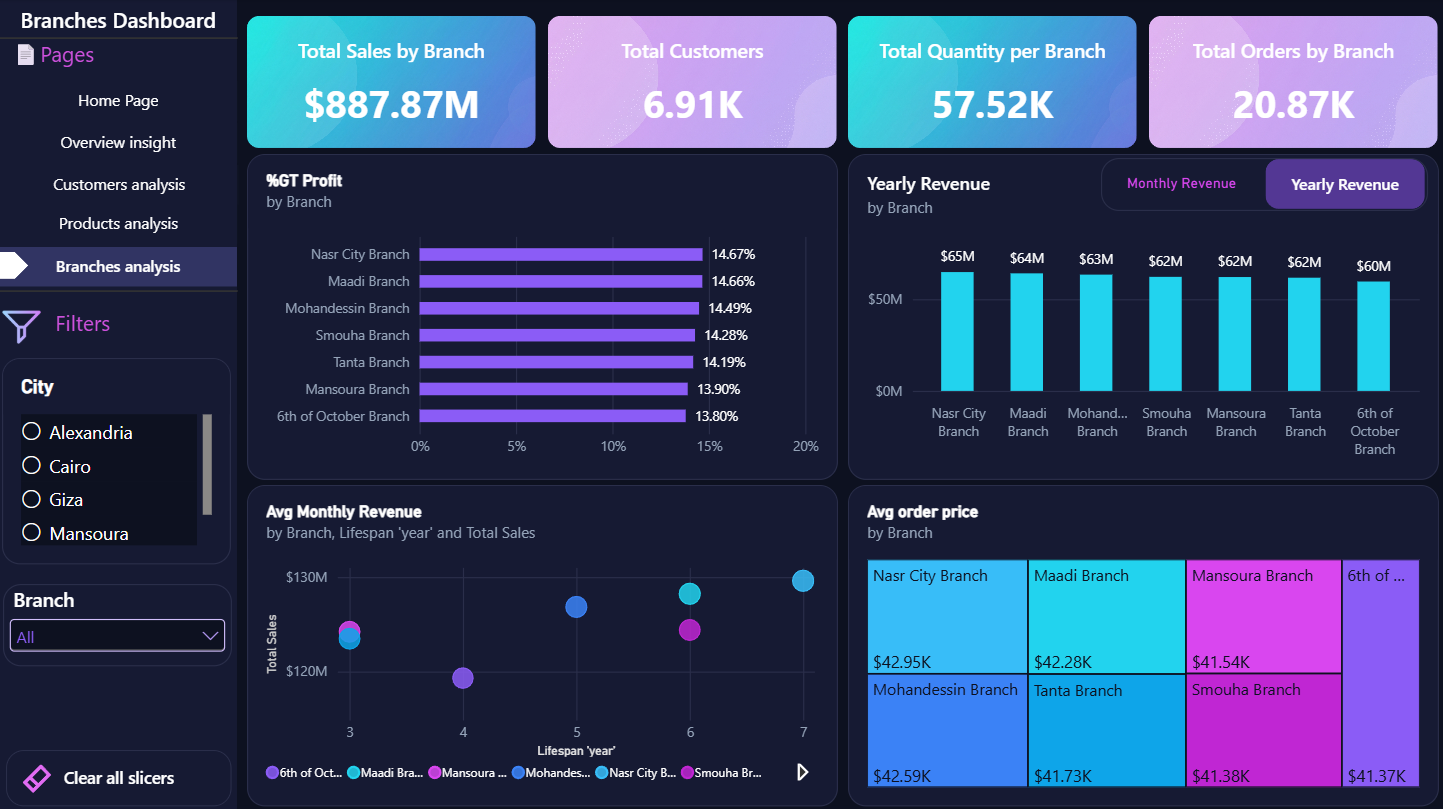

What the dashboard file says about the page in this screenshot:
{"tool":"powerbi","page":{"name":"Branches analysis","canvas":[1280,720],"ordinal":4},"visuals":[{"type":"shape","box":[0,0,211.5,720],"z":0},{"type":"cardVisual","fields":{"Data":["_Measures.Total Customers"]},"box":[486.5,15.1,256.9,117.3],"z":1000},{"type":"cardVisual","fields":{"Data":["_Measures.Total Sales"]},"box":[219.9,15.1,256.9,117.3],"z":2000},{"type":"scatterChart","fields":{"Series":["gold report_branches.branch_name"],"Size":["Sum(gold report_branches.avg_monthly_revenue)"],"X":["gold report_branches.lifespan_year"],"Y":["gold report_branches.total_sales"]},"box":[219.9,431,524,285],"z":3000},{"type":"shape","box":[0,252.9,211.5,12.6],"z":4000},{"type":"textbox","box":[0,5,211.5,36.9],"z":5000,"group":"g2"},{"type":"textbox","box":[0,273.6,148.5,35.1],"z":5000},{"type":"textbox","box":[6.3,35,83,31.5],"z":6000,"group":"g2"},{"type":"image","box":[0,273.6,39.6,34.2],"z":6000},{"type":"listSlicer","fields":{"Values":["gold report_branches.city"]},"box":[3,318.3,203.1,183],"z":7000},{"type":"slicer","fields":{"Values":["gold report_branches.branch_name"]},"box":[3.5,518.7,203,72.9],"z":8000},{"type":"actionButton","box":[6.2,665.9,200,50],"z":9000},{"type":"cardVisual","fields":{"Data":["Sum(gold report_branches.total_quantity)"]},"box":[753.1,15.1,256.9,117.3],"z":10000},{"type":"clusteredColumnChart","fields":{"Category":["gold report_branches.branch_name"],"Y":["_Measures.yearly revenue"]},"box":[752.8,137,524,289.1],"z":11000},{"type":"cardVisual","fields":{"Data":["Sum(gold report_branches.total_orders)"]},"box":[1019.7,15.1,256.9,117.3],"z":12000},{"type":"actionButton","box":[0.9,147.4,211.5,35],"z":13000},{"type":"actionButton","box":[0,220,211,35],"z":13000,"group":"g1"},{"type":"actionButton","box":[0,181.8,211.5,35],"z":14000},{"type":"shape","box":[0,224.4,26,23.9],"z":14000,"group":"g1"},{"type":"actionButton","box":[0,72.7,211.5,35],"z":15000},{"type":"group","id":"g1","title":"Group 1","box":[0,220,211,35],"z":16000},{"type":"actionButton","box":[0,110,211.5,35],"z":17000},{"type":"group","id":"g2","title":"Group 2","box":[0,5,211.5,61.5],"z":18000},{"type":"clusteredBarChart","fields":{"Category":["gold report_branches.branch_name"],"Y":["Divide(_Measures.Total Profit, ScopedEval(_Measures.Total Profit, []))"]},"box":[219.9,137,524,289.1],"z":19000},{"type":"advancedSlicerVisual","fields":{"Values":["Branches monthly&yearly compare.Branches monthly&yearly compare"]},"box":[977.1,141,290,47],"z":20000},{"type":"treemap","fields":{"Group":["gold report_branches.branch_name"],"Values":["Sum(gold report_branches.avg_order_price)"]},"box":[753,431,524,285],"z":21000},{"type":"shape","box":[0,28.4,211.5,12.6],"z":24000,"group":"g2"}]}

Visuals, with their boxes on the page's 1280x720 design canvas (x1, y1, x2, y2). These are canvas units, not pixel positions in the 1443x809 screenshot, which may show the page scaled, cropped or inside an application window:
shape: pyautogui.locateOnScreen(0, 0, 212, 720)
cardVisual - _Measures.Total Customers: pyautogui.locateOnScreen(486, 15, 743, 132)
cardVisual - _Measures.Total Sales: pyautogui.locateOnScreen(220, 15, 477, 132)
scatterChart - gold report_branches.branch_name x Sum(gold report_branches.avg_monthly_revenue): pyautogui.locateOnScreen(220, 431, 744, 716)
shape: pyautogui.locateOnScreen(0, 253, 212, 266)
textbox: pyautogui.locateOnScreen(0, 5, 212, 42)
textbox: pyautogui.locateOnScreen(0, 274, 148, 309)
textbox: pyautogui.locateOnScreen(6, 35, 89, 66)
image: pyautogui.locateOnScreen(0, 274, 40, 308)
listSlicer - gold report_branches.city: pyautogui.locateOnScreen(3, 318, 206, 501)
slicer - gold report_branches.branch_name: pyautogui.locateOnScreen(4, 519, 206, 592)
actionButton: pyautogui.locateOnScreen(6, 666, 206, 716)
cardVisual - Sum(gold report_branches.total_quantity): pyautogui.locateOnScreen(753, 15, 1010, 132)
clusteredColumnChart - gold report_branches.branch_name x _Measures.yearly revenue: pyautogui.locateOnScreen(753, 137, 1277, 426)
cardVisual - Sum(gold report_branches.total_orders): pyautogui.locateOnScreen(1020, 15, 1277, 132)
actionButton: pyautogui.locateOnScreen(1, 147, 212, 182)
actionButton: pyautogui.locateOnScreen(0, 220, 211, 255)
actionButton: pyautogui.locateOnScreen(0, 182, 212, 217)
shape: pyautogui.locateOnScreen(0, 224, 26, 248)
actionButton: pyautogui.locateOnScreen(0, 73, 212, 108)
"Group 1" group: pyautogui.locateOnScreen(0, 220, 211, 255)
actionButton: pyautogui.locateOnScreen(0, 110, 212, 145)
"Group 2" group: pyautogui.locateOnScreen(0, 5, 212, 66)
clusteredBarChart - gold report_branches.branch_name x Divide(_Measures.Total Profit, ScopedEval(_Measures.Total Profit, [])): pyautogui.locateOnScreen(220, 137, 744, 426)
advancedSlicerVisual - Branches monthly&yearly compare.Branches monthly&yearly compare: pyautogui.locateOnScreen(977, 141, 1267, 188)
treemap - gold report_branches.branch_name x Sum(gold report_branches.avg_order_price): pyautogui.locateOnScreen(753, 431, 1277, 716)
shape: pyautogui.locateOnScreen(0, 28, 212, 41)
